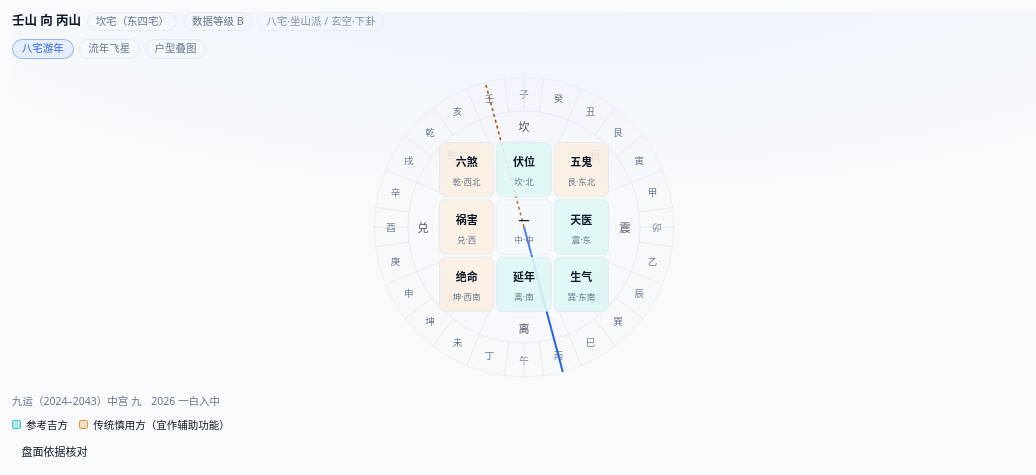
Test: M66-B：罗盘盘面 › LuopanBoard：流年飞星 tab（星号）+ 叠图 tab（无图空态）
Click the tab "流年飞星".
click(109, 49)  # box [78,38,140,59]
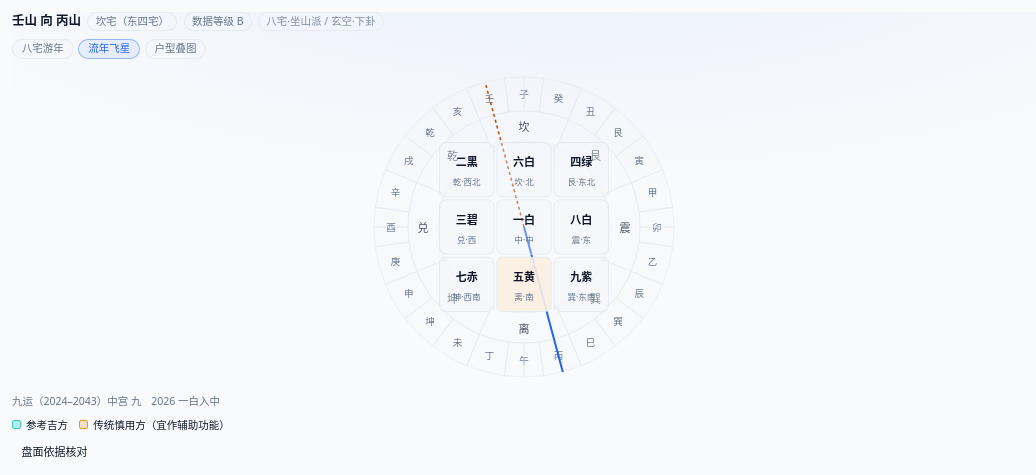
Click the tab "户型叠图".
click(176, 49)  # box [145,38,206,59]
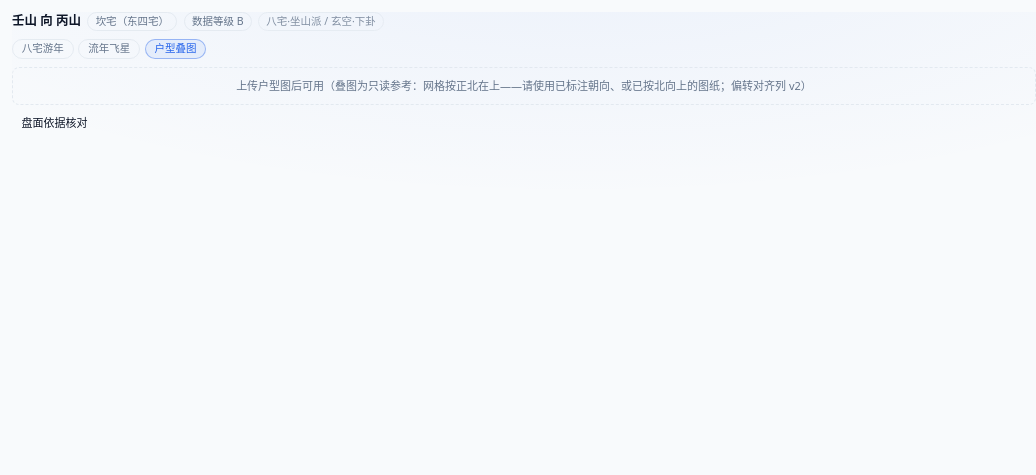
Expected: the element showing "上传户型图后可用（叠图为只读参考：网格按正北在上——请使用已标注朝向、或已按北向上的图纸；偏转对齐列 v2）" is shown, [12,67,1035,106]
Expected: the text "上传户型图后可用" is shown, [236,78,812,93]
